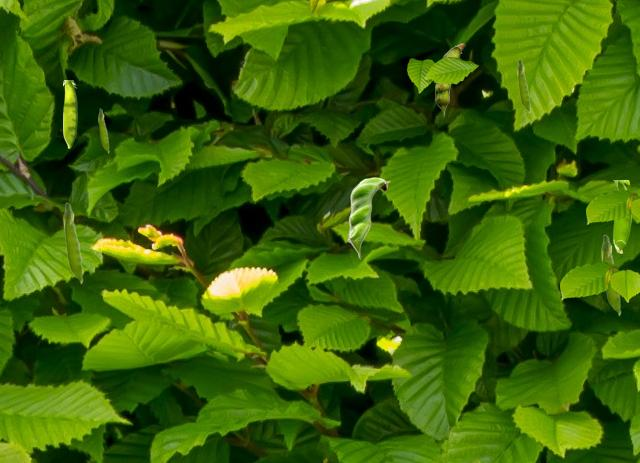pea: (347, 177, 389, 258), (435, 43, 464, 115), (601, 234, 620, 315), (63, 202, 82, 283), (613, 180, 630, 252), (63, 80, 76, 147), (517, 59, 529, 112), (98, 108, 108, 152)
